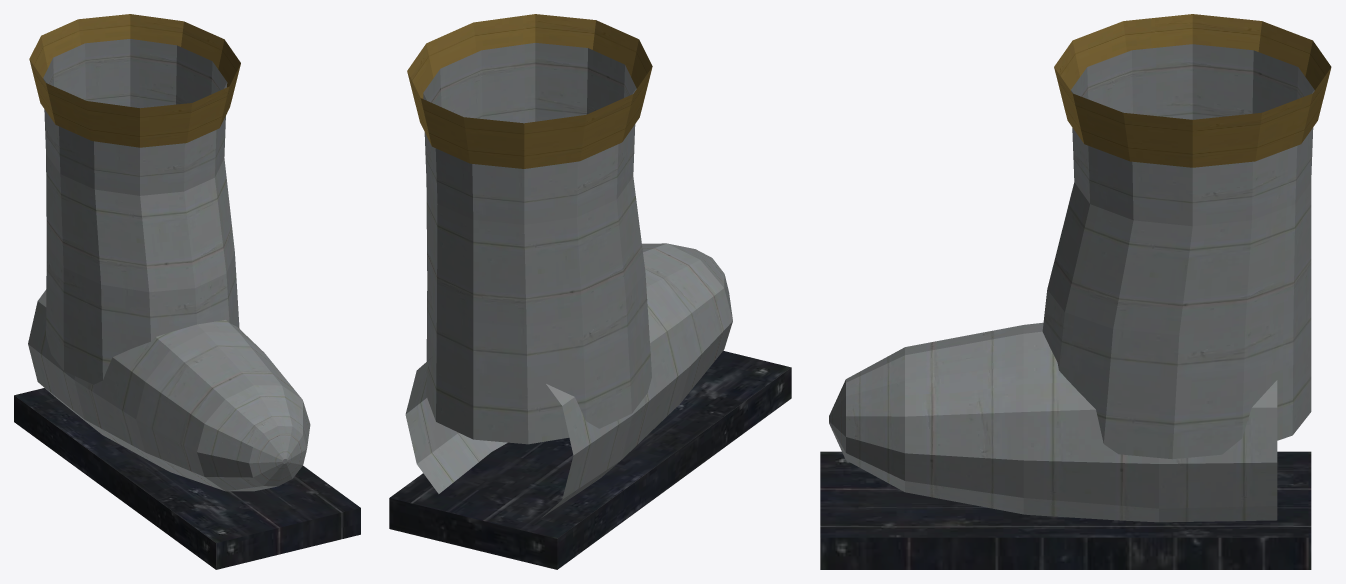
Rendered from eq_past_2_boot.glb.
The picture shows the model from 3 angles, left to right: view 1: azimuth 30°, elevation 25°; view 2: azimuth 150°, elevation 25°; view 3: azimuth 270°, elevation 25°; orthographic projection. The views are drawn at different scales.
Parts seen in each view (by area): view 1: eq_past_2_boot; view 2: eq_past_2_boot; view 3: eq_past_2_boot.
Boxes of the visible parts, bbox=[...] form: eq_past_2_boot: bbox=[14, 14, 360, 569]; eq_past_2_boot: bbox=[389, 14, 791, 569]; eq_past_2_boot: bbox=[820, 14, 1331, 569].
Size of the model in its own units: 0.1539 by 0.312 by 0.3141.
Materials: 3 (3 with a texture image).
